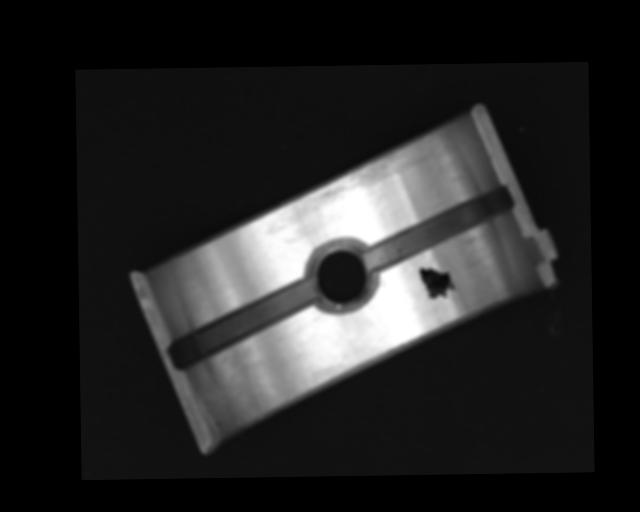blot: (419, 265, 458, 300)
gap: (170, 279, 317, 368), (364, 185, 513, 268)
hole: (305, 237, 376, 313)
scratch: (297, 133, 438, 203)
